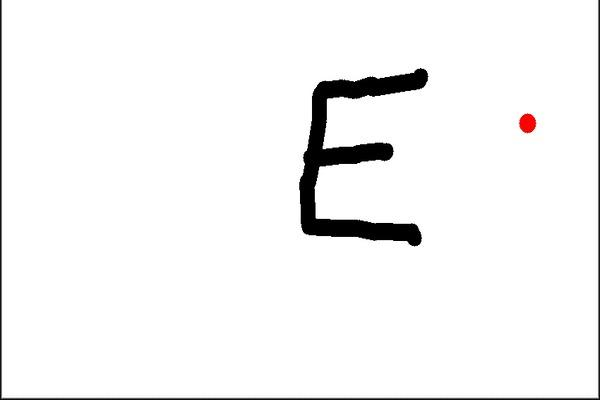E: (291, 61, 439, 255)
